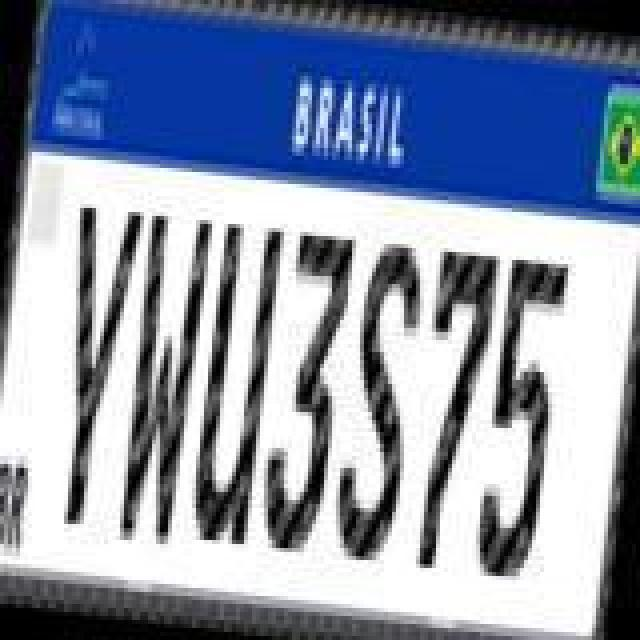3: (252, 224, 356, 560)
5: (468, 252, 572, 588)
7: (396, 242, 500, 574)
S: (328, 234, 432, 566)
U: (182, 216, 282, 552)
W: (108, 208, 212, 552)
Y: (44, 200, 148, 536)
